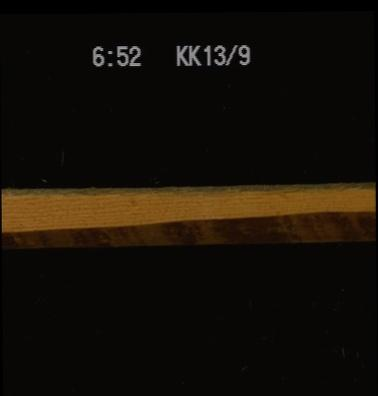wave: (1, 223, 375, 246), (6, 184, 374, 202)
